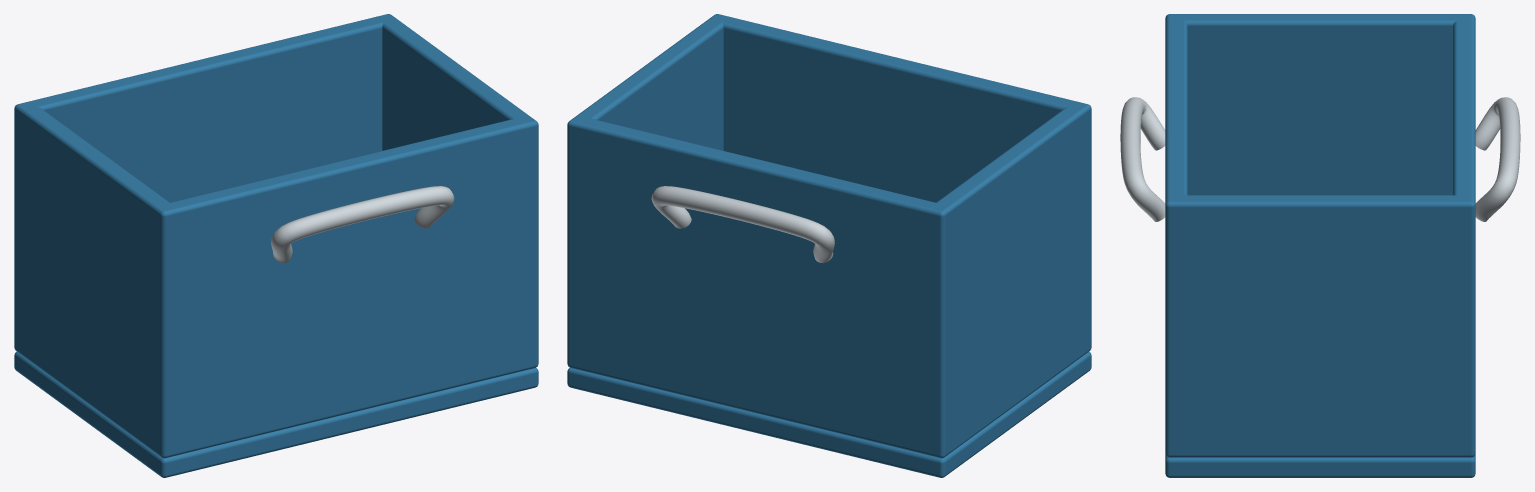
The model's file is curling-club-and-ice-maintenance-snow-collection-bin-b505c249__31299.glb.
3 renders of one model, left to right at view 1: azimuth 30°, elevation 25°; view 2: azimuth 150°, elevation 25°; view 3: azimuth 270°, elevation 25°, orthographic. The views are drawn at different scales.
Visible parts, largest first — view 1: snow-collection-bin; view 2: snow-collection-bin; view 3: snow-collection-bin.
Part boxes in pixels (box(x1,y1,x2,y2)): snow-collection-bin: box(14, 14, 538, 477); snow-collection-bin: box(567, 14, 1091, 477); snow-collection-bin: box(1120, 14, 1520, 477).
Size of the model in its own units: 0.8 by 0.54 by 0.7089.
